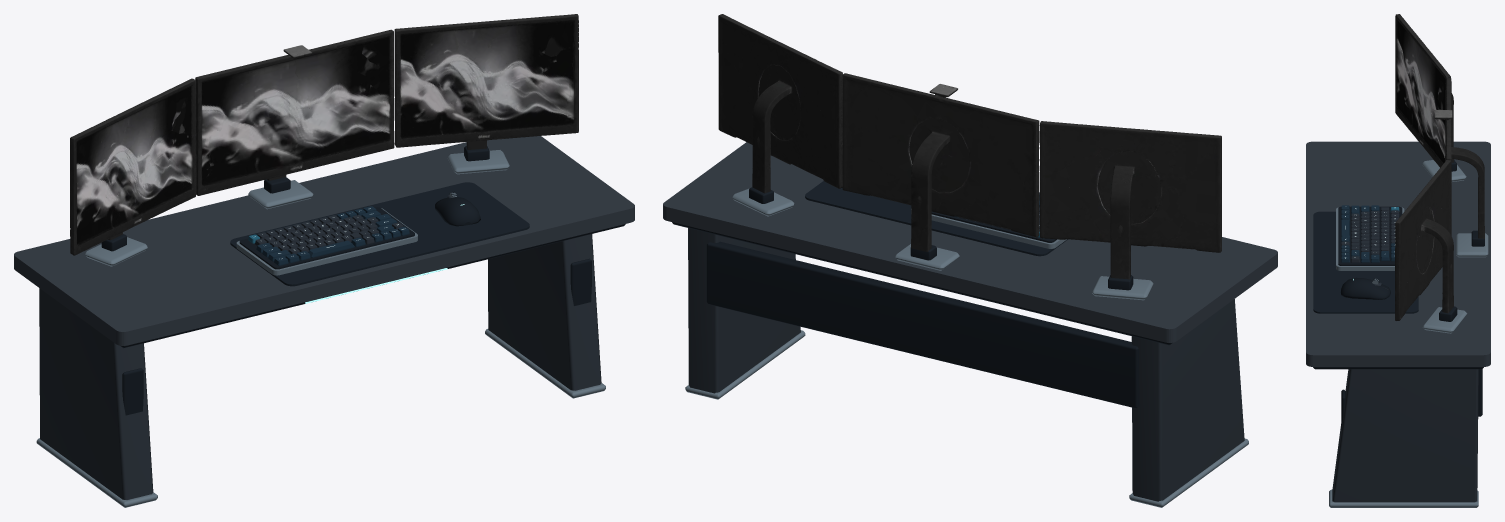
The model's file is office-desk.glb.
The picture shows the model from 3 angles, left to right: view 1: azimuth 30°, elevation 25°; view 2: azimuth 150°, elevation 25°; view 3: azimuth 270°, elevation 25°; orthographic projection. The views are drawn at different scales.
Visible parts, largest first — view 1: Reused display atlas | neutralized trim, Desk top | graphite satin, Satin graphite, Desk mat | charcoal, Brushed gunmetal, Matte black polymer, Keys | charcoal PBT, Keys | ink blue PBT; view 2: Reused display atlas | neutralized trim, Desk top | graphite satin, Matte black polymer, Satin graphite, Brushed gunmetal, Desk mat | charcoal; view 3: Desk top | graphite satin, Satin graphite, Reused display atlas | neutralized trim, Desk mat | charcoal, Matte black polymer, Brushed gunmetal, Keys | charcoal PBT, Keys | ink blue PBT.
Boxes of the visible parts, left/top/right/bottom form: Reused display atlas | neutralized trim: left=70, top=14, right=578, bottom=255; Desk top | graphite satin: left=14, top=136, right=634, bottom=345; Satin graphite: left=39, top=234, right=601, bottom=499; Desk mat | charcoal: left=230, top=182, right=529, bottom=286; Brushed gunmetal: left=36, top=150, right=605, bottom=507; Matte black polymer: left=101, top=146, right=625, bottom=415; Keys | charcoal PBT: left=255, top=195, right=450, bottom=254; Keys | ink blue PBT: left=256, top=206, right=409, bottom=265; Reused display atlas | neutralized trim: left=718, top=14, right=1221, bottom=279; Desk top | graphite satin: left=663, top=142, right=1277, bottom=342; Matte black polymer: left=672, top=187, right=1171, bottom=408; Satin graphite: left=688, top=228, right=1244, bottom=501; Brushed gunmetal: left=685, top=188, right=1248, bottom=507; Desk mat | charcoal: left=805, top=181, right=1067, bottom=256; Desk top | graphite satin: left=1306, top=141, right=1490, bottom=366; Satin graphite: left=1332, top=369, right=1478, bottom=502; Reused display atlas | neutralized trim: left=1395, top=14, right=1484, bottom=320; Desk mat | charcoal: left=1313, top=211, right=1418, bottom=313; Matte black polymer: left=1313, top=160, right=1484, bottom=429; Brushed gunmetal: left=1329, top=160, right=1488, bottom=507; Keys | charcoal PBT: left=1341, top=207, right=1399, bottom=289; Keys | ink blue PBT: left=1341, top=205, right=1395, bottom=262.
Bounding box in the file's own units: 1.89 × 1.22 × 0.692.
Materials: 11 (1 with a texture image).
